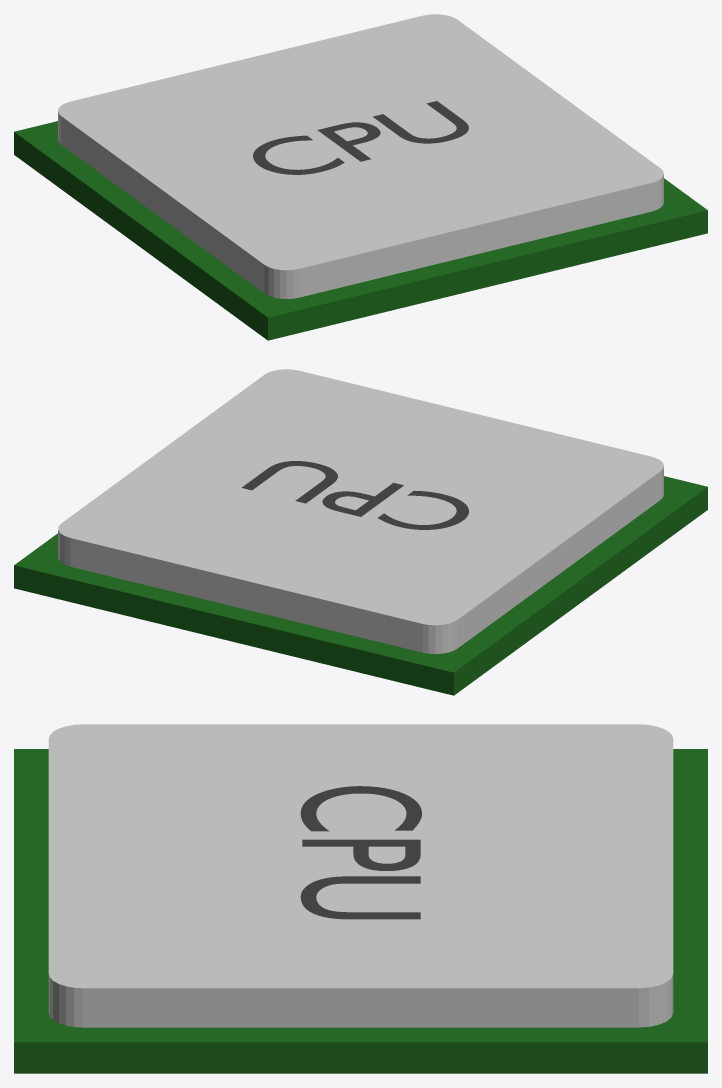
File: CPUBlender.gltf
3 views of the same model, one above another, from view 1: azimuth 30°, elevation 25°; view 2: azimuth 150°, elevation 25°; view 3: azimuth 270°, elevation 25° (orthographic). The views are drawn at different scales.
Visible parts, largest first — view 1: Cube, Text; view 2: Cube, Text; view 3: Cube, Text.
Boxes of the visible parts, x1=… form: Cube: x1=14, y1=14, x2=707, y2=340; Text: x1=253, y1=101, x2=468, y2=174; Cube: x1=14, y1=369, x2=707, y2=695; Text: x1=241, y1=461, x2=468, y2=529; Cube: x1=14, y1=724, x2=707, y2=1073; Text: x1=300, y1=786, x2=421, y2=919.
Bounding box in the file's own units: 4 × 0.5634 × 4.
